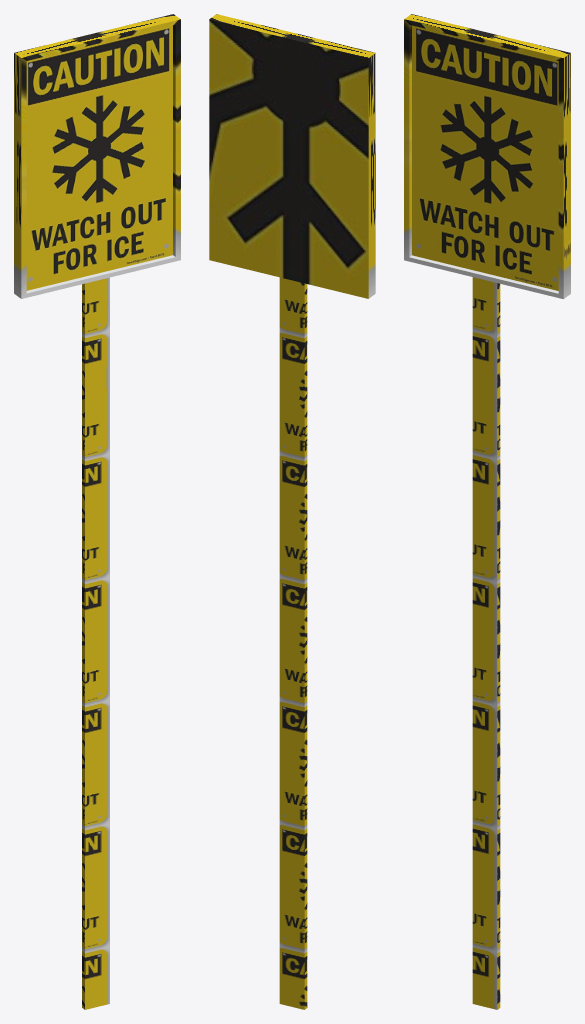
File: cartel.obj
The picture shows the model from 3 angles, left to right: view 1: azimuth 30°, elevation 25°; view 2: azimuth 150°, elevation 25°; view 3: azimuth 330°, elevation 25°; orthographic projection.
Parts seen in each view (by area): view 1: sign3; view 2: sign3; view 3: sign3.
Part boxes in pixels (<box>): sign3: <box>14,14,180,1009</box>; sign3: <box>209,14,375,1009</box>; sign3: <box>404,14,570,1009</box>.
Bounding box in the file's own units: 0.34 × 1.98 × 0.027.
1 material, 1 textured.
